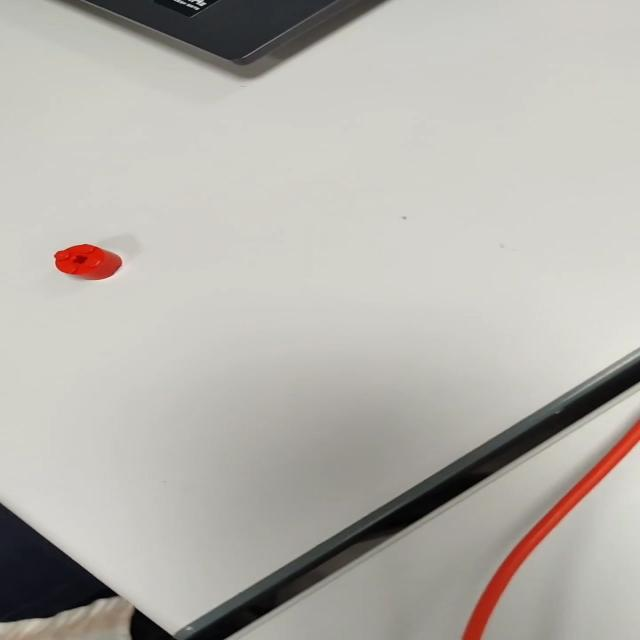S2x2x1: (52, 242, 130, 281)
